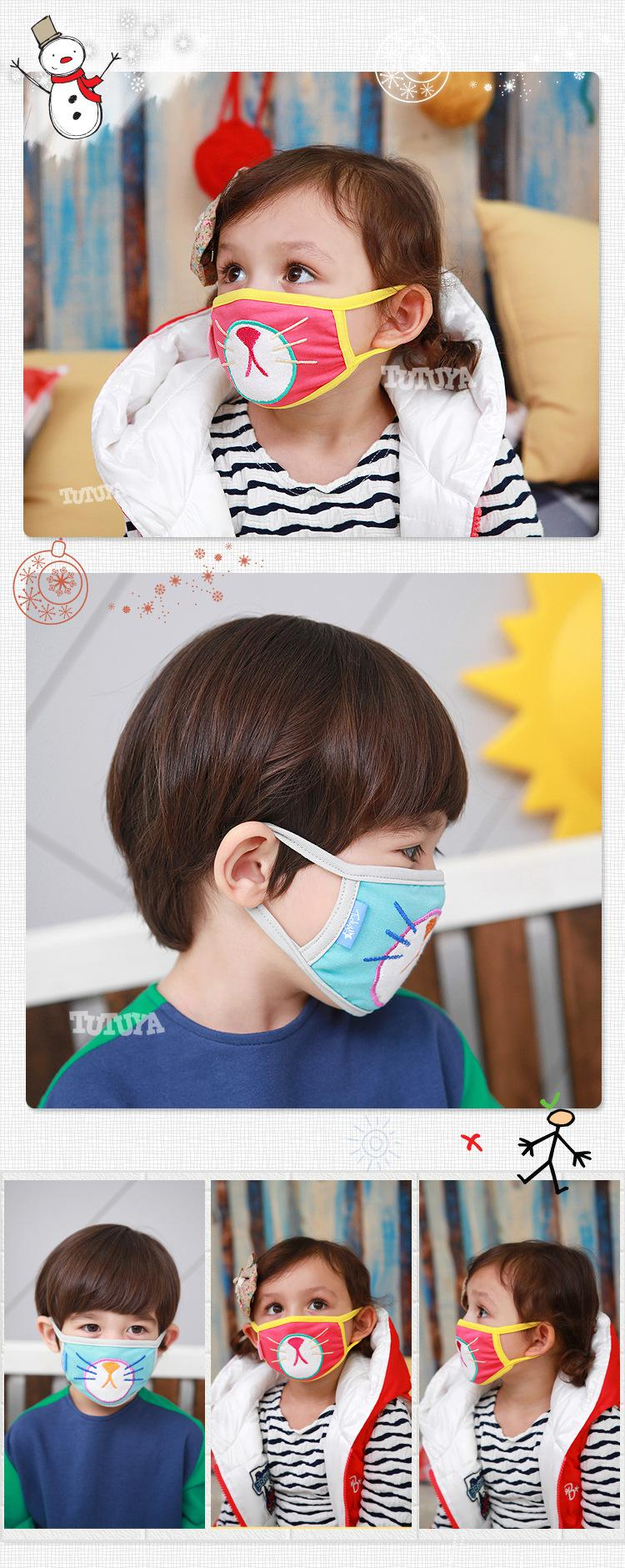OK: (223, 781, 458, 1016), (197, 222, 377, 403), (53, 1299, 171, 1417), (249, 1273, 359, 1383), (452, 1285, 557, 1390)
